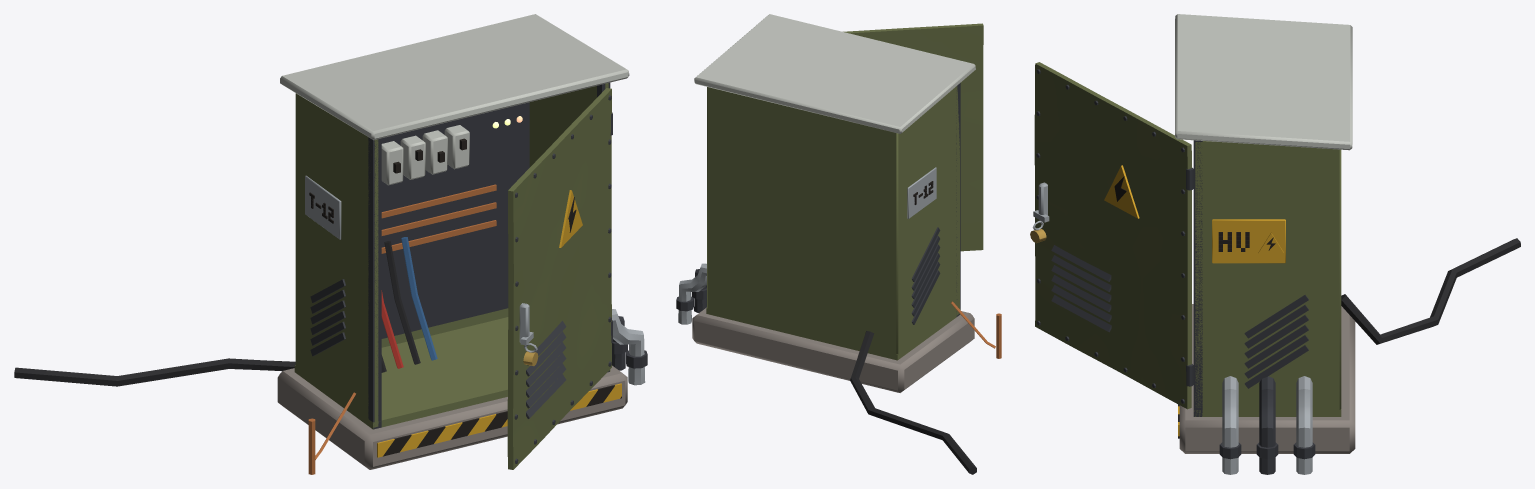
File: deco_transformer_box.fbx
3 renders of one model, left to right at view 1: azimuth 30°, elevation 25°; view 2: azimuth 150°, elevation 25°; view 3: azimuth 270°, elevation 25°, orthographic. The views are drawn at different scales.
Visible parts, largest first — view 1: TransformerBox_Cabinet, TransformerBox_Door, TransformerBox_Conduits, TransformerBox_Plates; view 2: TransformerBox_Cabinet, TransformerBox_Door, TransformerBox_Conduits, TransformerBox_Plates; view 3: TransformerBox_Cabinet, TransformerBox_Door, TransformerBox_Conduits, TransformerBox_Plates.
Part boxes in pixels (box(x1,y1,x2,y2)): TransformerBox_Cabinet: box(277, 14, 629, 469); TransformerBox_Door: box(507, 88, 612, 469); TransformerBox_Conduits: box(14, 309, 647, 474); TransformerBox_Plates: box(305, 175, 621, 457); TransformerBox_Cabinet: box(692, 14, 975, 392); TransformerBox_Door: box(843, 23, 983, 251); TransformerBox_Conduits: box(676, 263, 1001, 474); TransformerBox_Plates: box(907, 167, 936, 218); TransformerBox_Cabinet: box(1175, 14, 1355, 453); TransformerBox_Door: box(1030, 62, 1193, 409); TransformerBox_Conduits: box(1219, 238, 1520, 474); TransformerBox_Plates: box(1178, 219, 1285, 438).
Bounding box in the file's own units: 285 × 193 × 265.
